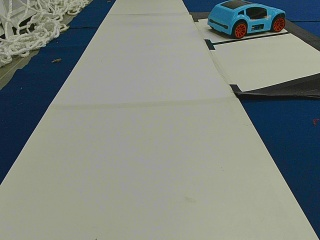car: (207, 3, 286, 37)
